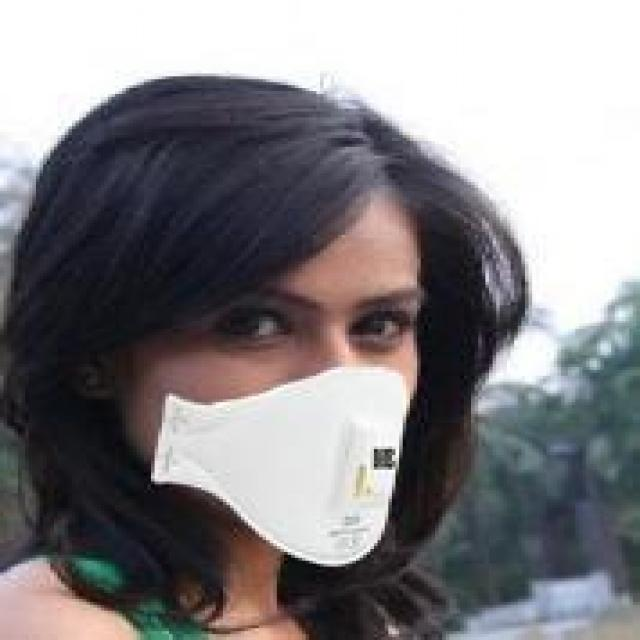mask: (32, 59, 486, 593)
